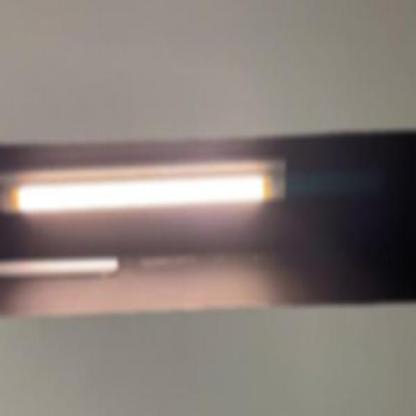light_on: (0, 140, 303, 233)
